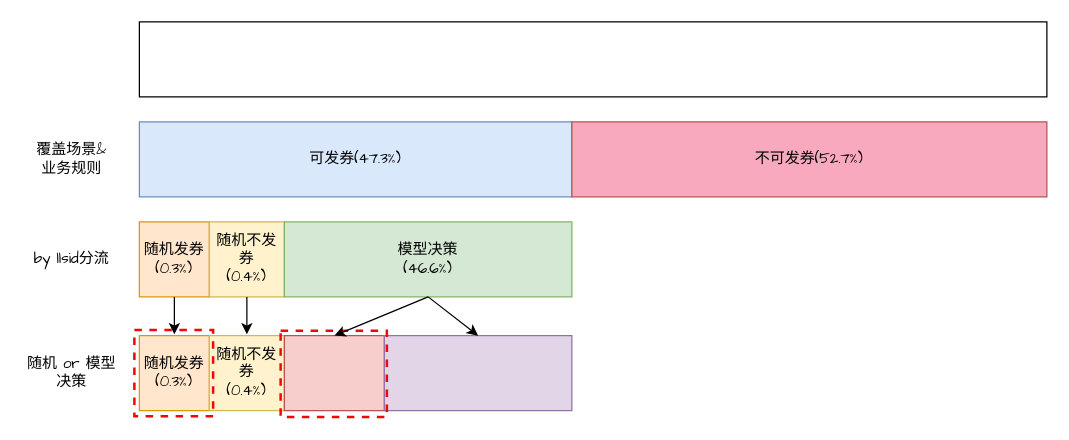
This 1069x440 diagram has some shape labels left out. The centre of each missing label's shape, as x and y in pixels:
所有流量(100%): (592,59)
策略不发券 (40.1%): (477,372)
策略发券 (6.5%): (333,372)
